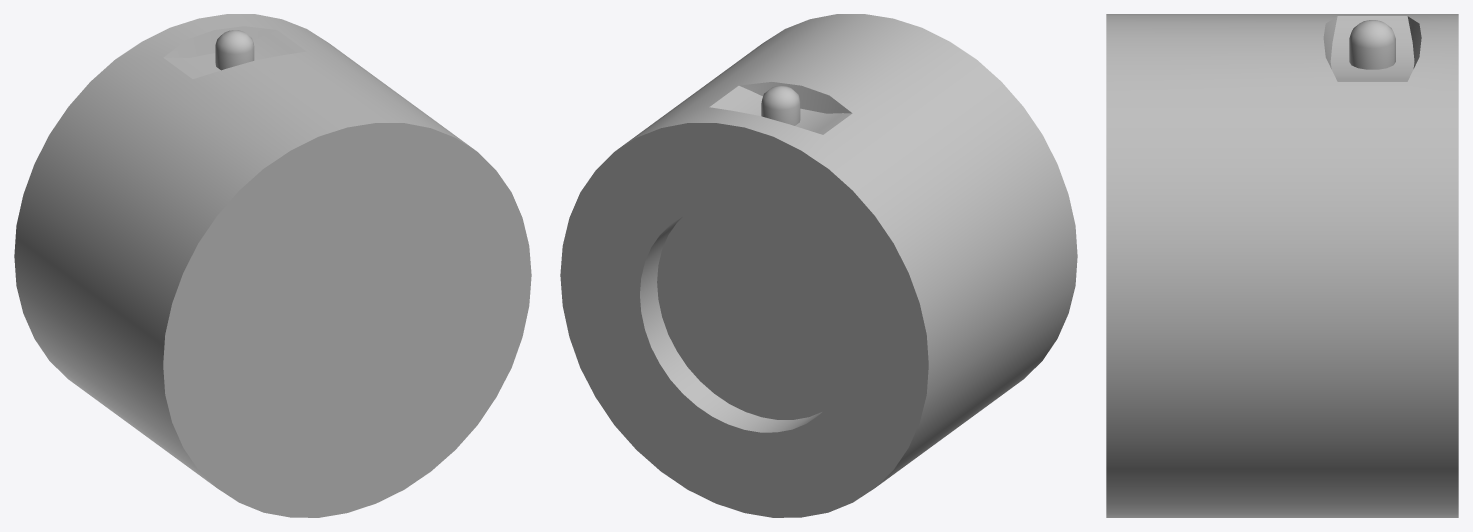
File: wrist3.fbx
3 views of the same model, side by side, from view 1: azimuth 30°, elevation 25°; view 2: azimuth 150°, elevation 25°; view 3: azimuth 270°, elevation 25° (orthographic). The views are drawn at different scales.
Parts seen in each view (by area): view 1: wrist3; view 2: wrist3; view 3: wrist3.
Part boxes in pixels (x1=…): wrist3: x1=14, y1=14, x2=531, y2=517; wrist3: x1=560, y1=14, x2=1077, y2=517; wrist3: x1=1106, y1=14, x2=1458, y2=517.
Size of the model in its own units: 10 by 10.35 by 7.
